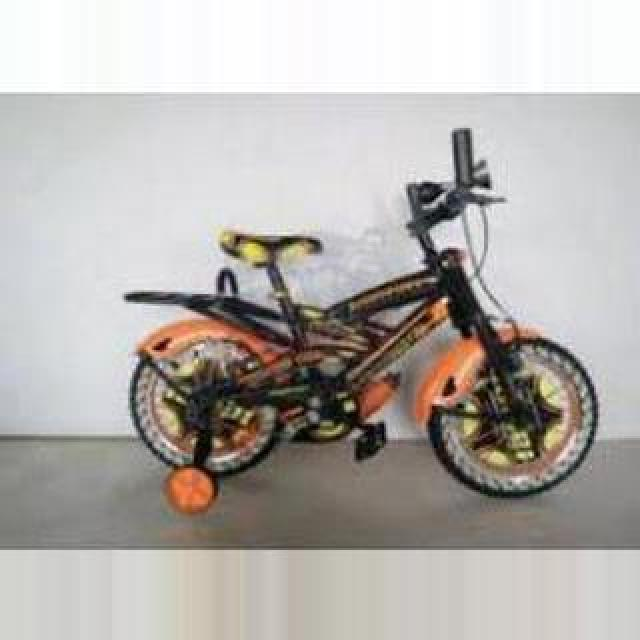Person: (126, 126, 602, 516)
